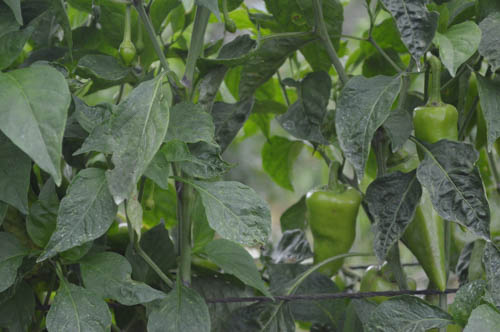ChiliPepper: (394, 161, 446, 291), (302, 189, 363, 278), (415, 103, 459, 142)
